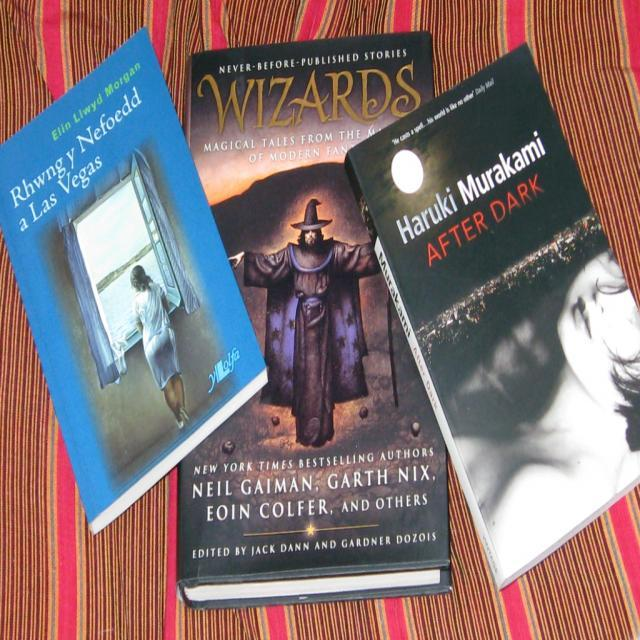book: (343, 43, 640, 593), (186, 29, 454, 612), (1, 33, 268, 534)
